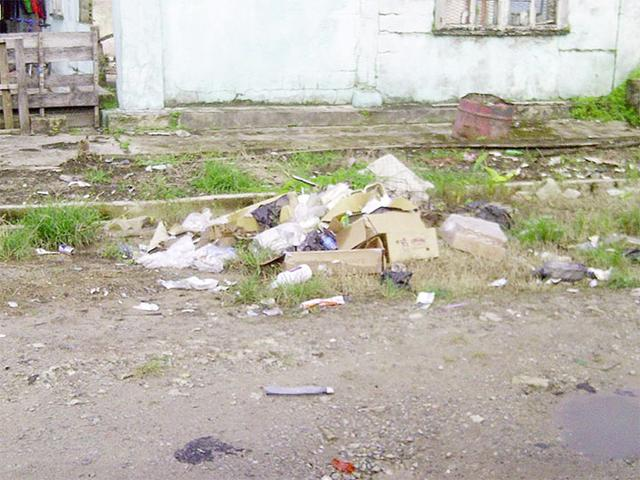garbage: (243, 196, 500, 292)
